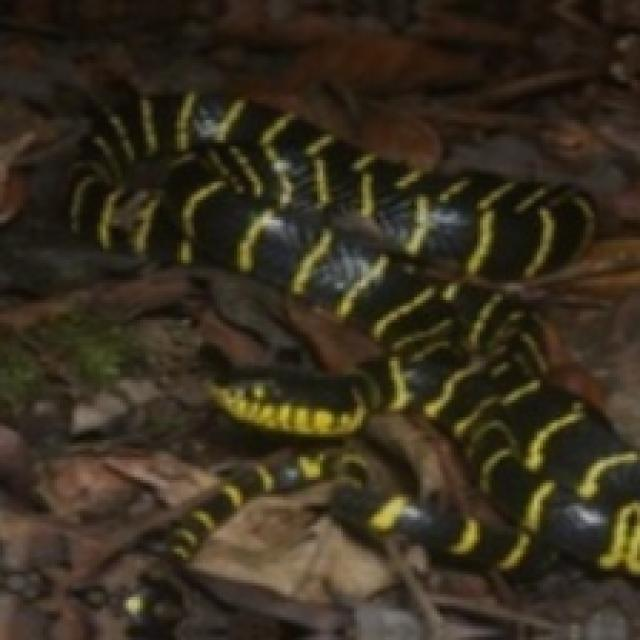mangrove cat snake: (74, 99, 640, 589)
